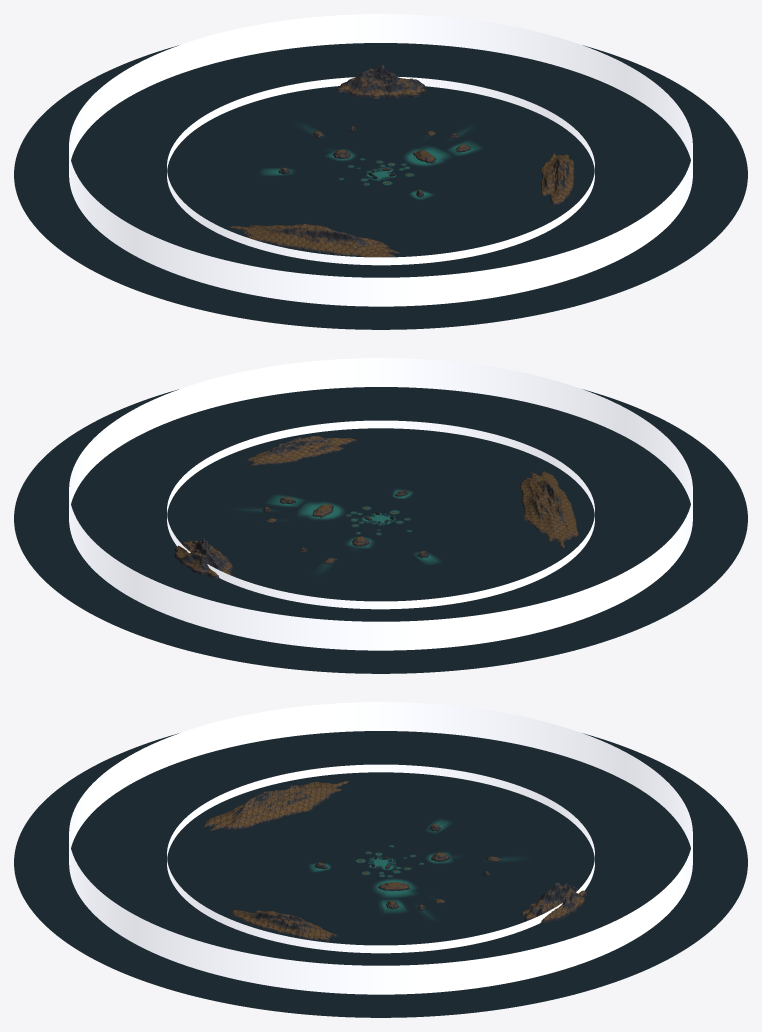
File: backdrop_islands_isle_v2_autumn.glb
3 renders of one model, top to bottom at view 1: azimuth 30°, elevation 25°; view 2: azimuth 150°, elevation 25°; view 3: azimuth 270°, elevation 25°, orthographic.
Parts seen in each view (by area): view 1: horizon_fog, water_E, water_W, water_S, water_N, islets; view 2: horizon_fog, water_E, water_W, water_S, water_N, islets; view 3: horizon_fog, water_S, water_N, water_E, water_W, islets.
Boxes of the visible parts, x1,y1,x2,y2 form: horizon_fog: (69, 14, 692, 306); water_E: (381, 45, 747, 214); water_W: (14, 134, 380, 324); water_S: (286, 175, 734, 329); water_N: (27, 43, 461, 174); islets: (229, 64, 574, 257); horizon_fog: (69, 358, 692, 650); water_E: (14, 389, 380, 558); water_W: (381, 478, 747, 668); water_S: (300, 387, 734, 518); water_N: (27, 519, 475, 673); islets: (174, 436, 578, 579); horizon_fog: (69, 702, 692, 994); water_S: (14, 753, 380, 972); water_N: (381, 753, 747, 972); water_E: (122, 863, 639, 1017); water_W: (122, 731, 639, 862); islets: (203, 781, 587, 941).
Size of the model in its own units: 6000 by 265 by 6000.
3 materials, 1 textured.
